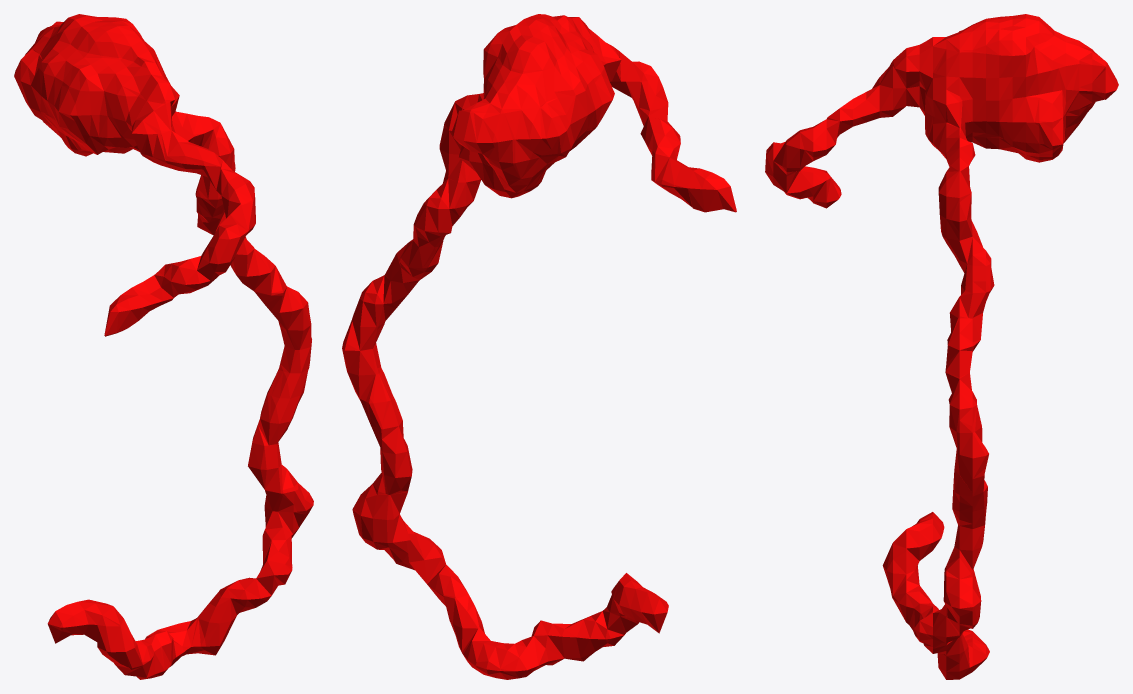
File: fliM_coarse.dae
3 views of the same model, side by side, from view 1: azimuth 30°, elevation 25°; view 2: azimuth 150°, elevation 25°; view 3: azimuth 270°, elevation 25° (orthographic). The views are drawn at different scales.
Parts seen in each view (by area): view 1: fliM; view 2: fliM; view 3: fliM.
Part boxes in pixels (box(x1,y1,x2,y2)): fliM: box(14, 14, 313, 679); fliM: box(342, 14, 736, 679); fliM: box(765, 14, 1118, 679).
Bounding box in the file's own units: 97.38 × 205 × 105.
